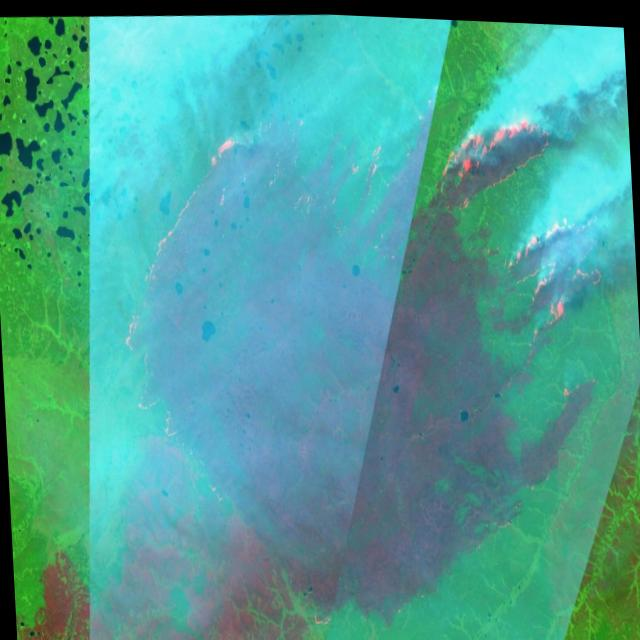fire: (107, 178, 230, 508), (428, 88, 571, 216), (498, 206, 592, 358), (202, 116, 267, 197), (312, 602, 332, 630)
